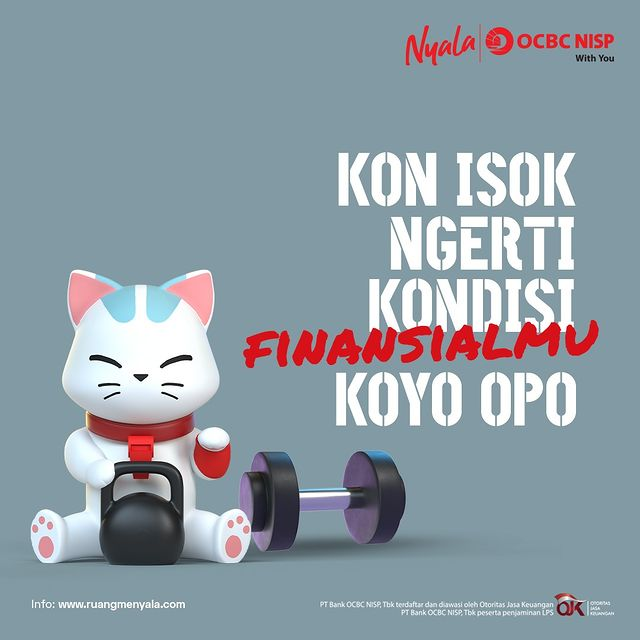ojk: (553, 591, 617, 619)
